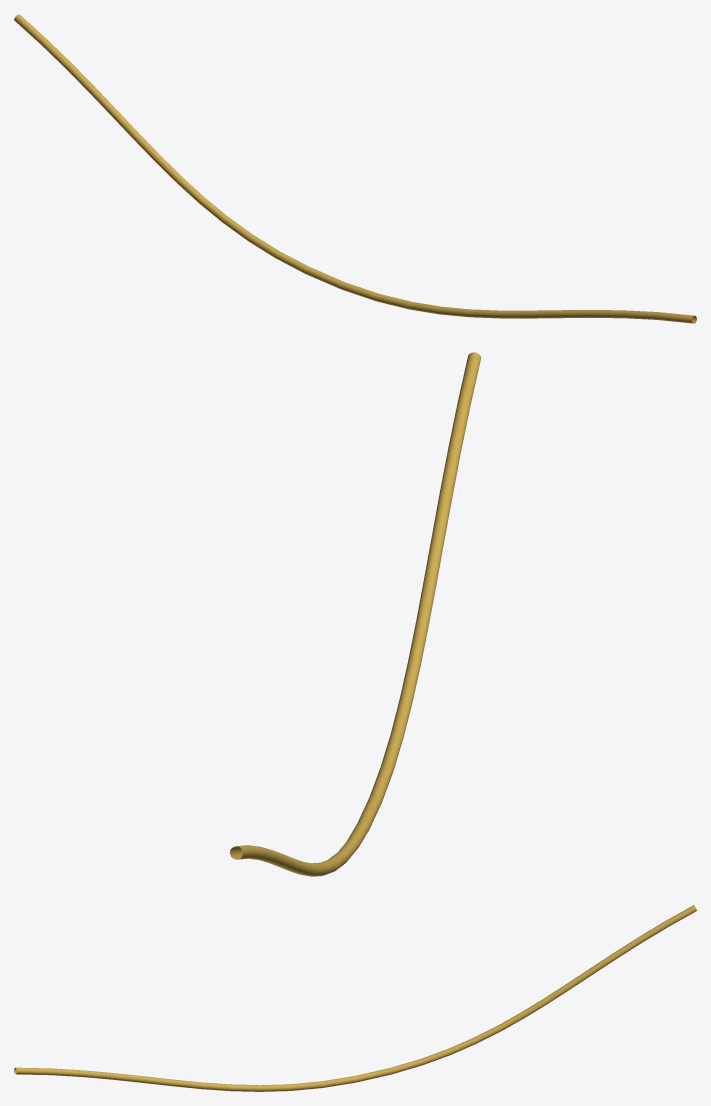
3 views of the same model, one above another, from view 1: azimuth 30°, elevation 25°; view 2: azimuth 150°, elevation 25°; view 3: azimuth 270°, elevation 25° (orthographic). The views are drawn at different scales.
Parts seen in each view (by area): view 1: 左侧隐神经小腿内侧皮支; view 2: 左侧隐神经小腿内侧皮支; view 3: 左侧隐神经小腿内侧皮支.
Part boxes in pixels (x1,y1,x2,y2): 左侧隐神经小腿内侧皮支: (14, 14, 696, 323); 左侧隐神经小腿内侧皮支: (230, 352, 480, 876); 左侧隐神经小腿内侧皮支: (14, 905, 696, 1091).
Bounding box in the file's own units: 0.0569 × 0.0308 × 0.1485.
